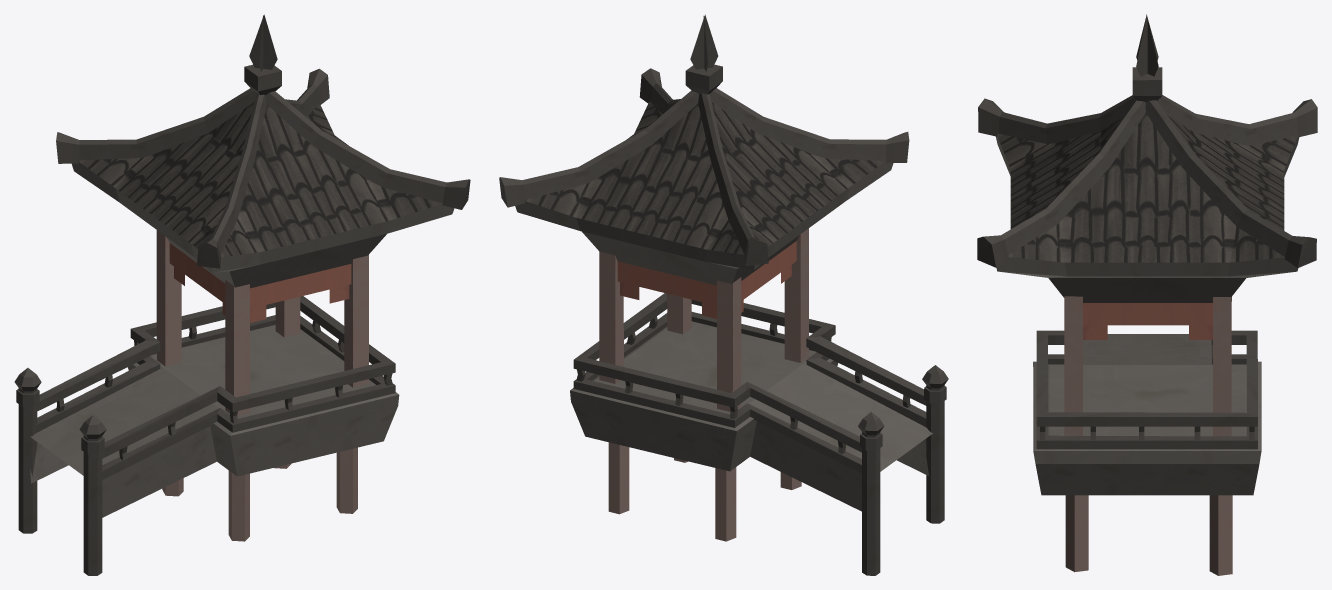
The model's file is TingZi01.fbx.
The picture shows the model from 3 angles, left to right: view 1: azimuth 30°, elevation 25°; view 2: azimuth 150°, elevation 25°; view 3: azimuth 270°, elevation 25°; orthographic projection. The views are drawn at different scales.
Parts seen in each view (by area): view 1: TingZi01; view 2: TingZi01; view 3: TingZi01.
Boxes of the visible parts, box(x1,y1,x2,y2) form: TingZi01: box(14, 14, 470, 575); TingZi01: box(499, 14, 948, 575); TingZi01: box(977, 14, 1317, 575).
Size of the model in its own units: 279 by 376 by 218.
